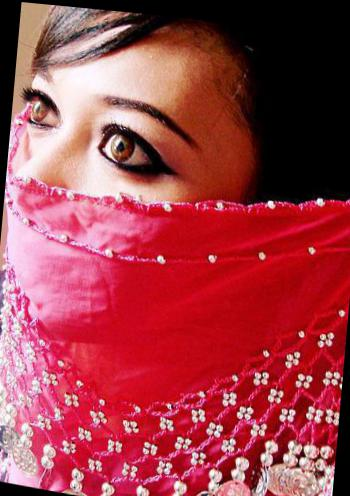WRONG: (1, 57, 256, 365)
